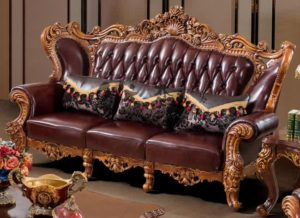Carving Chair: (21, 15, 269, 201)
